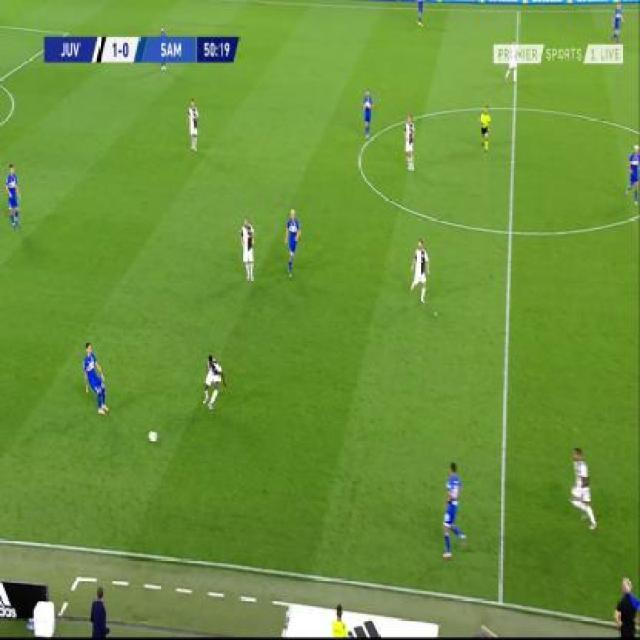ball: (148, 426, 159, 443)
player: (439, 457, 467, 563), (566, 442, 597, 533), (81, 338, 109, 417), (612, 572, 640, 640), (201, 352, 227, 414), (409, 236, 431, 307), (283, 205, 302, 281), (3, 159, 22, 233), (88, 583, 111, 640), (239, 212, 256, 283), (624, 136, 640, 208), (402, 113, 416, 173), (186, 97, 200, 153), (505, 36, 521, 82), (331, 600, 350, 637), (361, 86, 374, 140), (478, 104, 492, 153), (611, 3, 625, 43), (416, 0, 427, 26)
